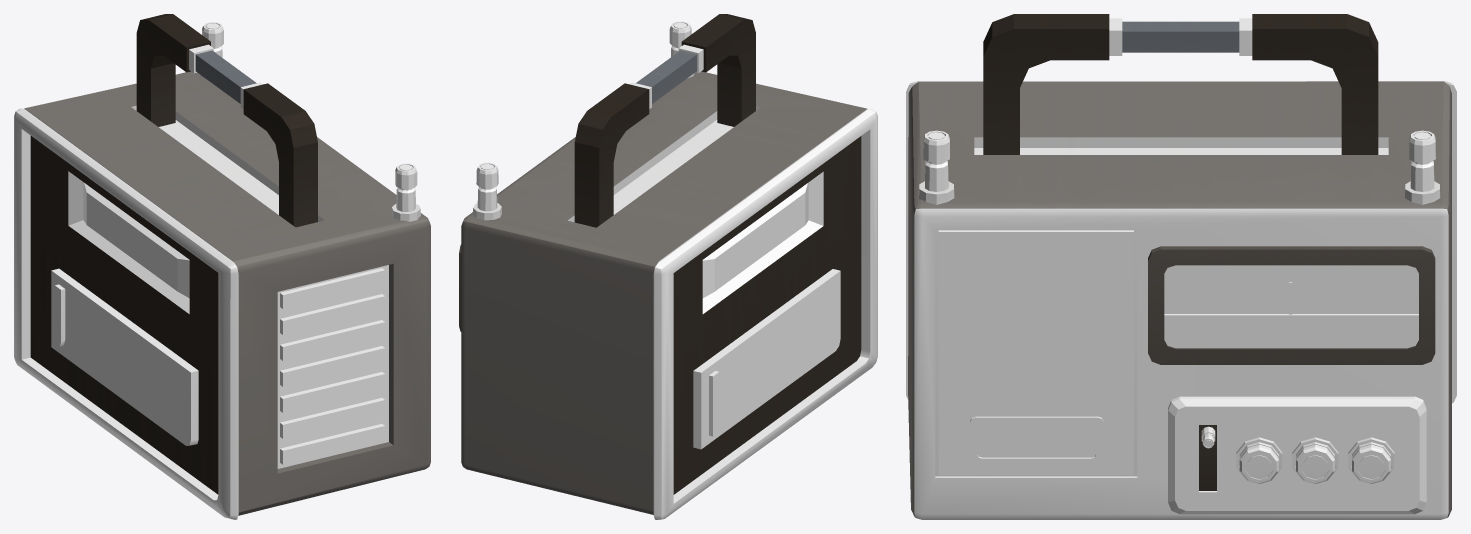
The model's file is radio.fbx.
3 views of the same model, side by side, from view 1: azimuth 30°, elevation 25°; view 2: azimuth 150°, elevation 25°; view 3: azimuth 270°, elevation 25° (orthographic). The views are drawn at different scales.
Visible parts, largest first — view 1: radio; view 2: radio; view 3: radio.
Boxes of the visible parts, box(x1,y1,x2,y2) form: radio: box(14, 14, 430, 519); radio: box(459, 14, 877, 519); radio: box(906, 14, 1456, 519).
Size of the model in its own units: 219 by 318 by 357.
